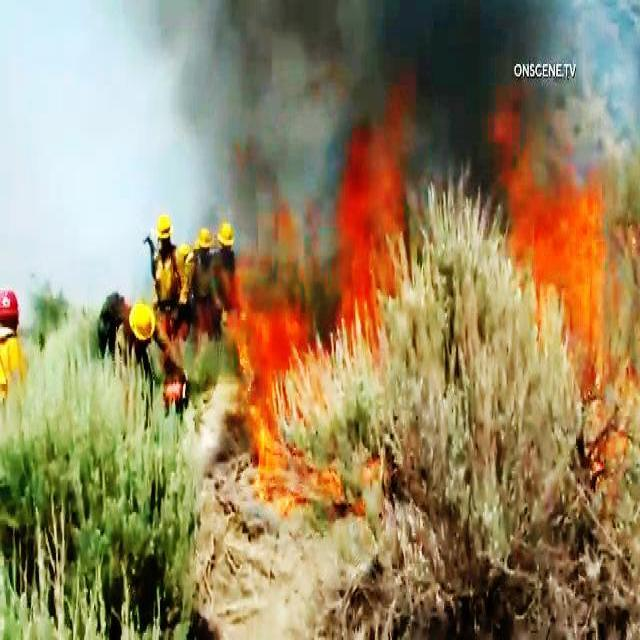Fire: (242, 120, 402, 478), (494, 118, 605, 366)
Smoke: (0, 2, 218, 312), (196, 0, 460, 108), (464, 3, 640, 137)
